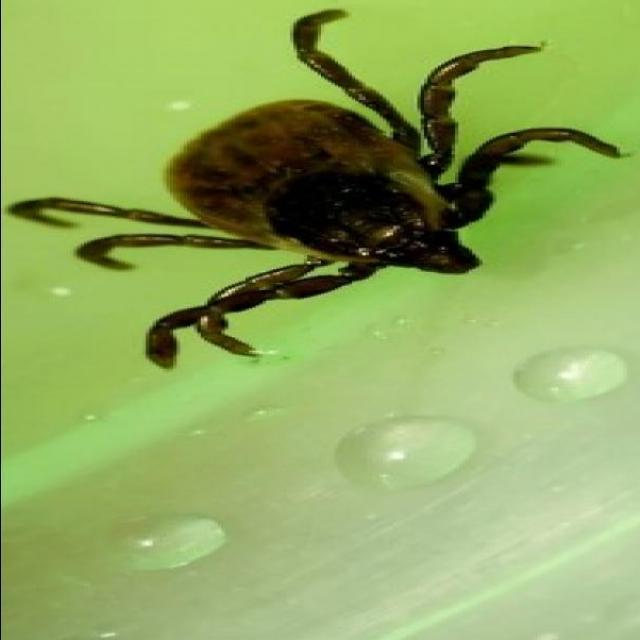Rhipicephalus Sanguineus-F: (4, 10, 619, 372)
